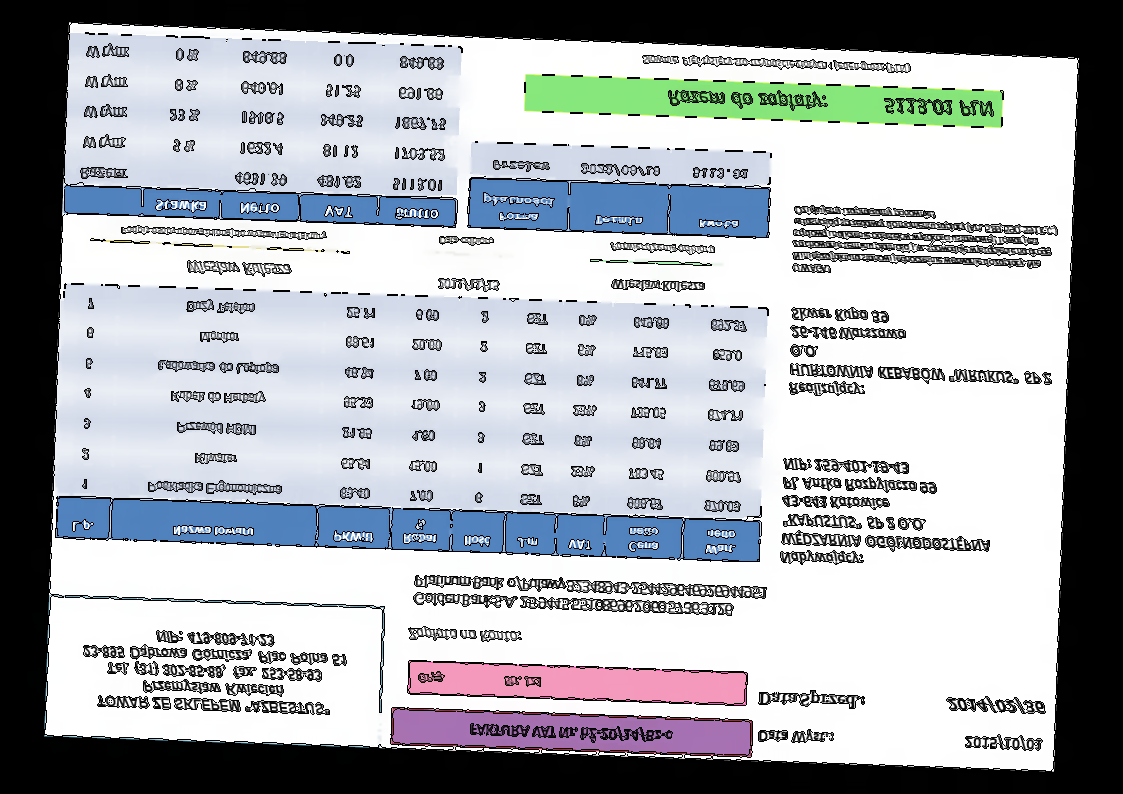Table: (54, 284, 768, 565), (63, 32, 463, 229), (466, 141, 772, 239)
TextBox: (787, 305, 1056, 407), (779, 454, 997, 572), (78, 624, 351, 717), (790, 203, 1061, 284), (412, 572, 771, 619), (665, 87, 996, 121), (641, 51, 912, 76), (469, 719, 675, 748), (119, 223, 328, 245), (405, 623, 524, 647), (757, 687, 869, 710), (945, 692, 1047, 717), (184, 257, 294, 280), (415, 671, 544, 690), (609, 276, 707, 297), (608, 239, 717, 257), (963, 733, 1044, 753), (757, 726, 836, 746), (435, 275, 501, 294), (437, 234, 494, 249)
